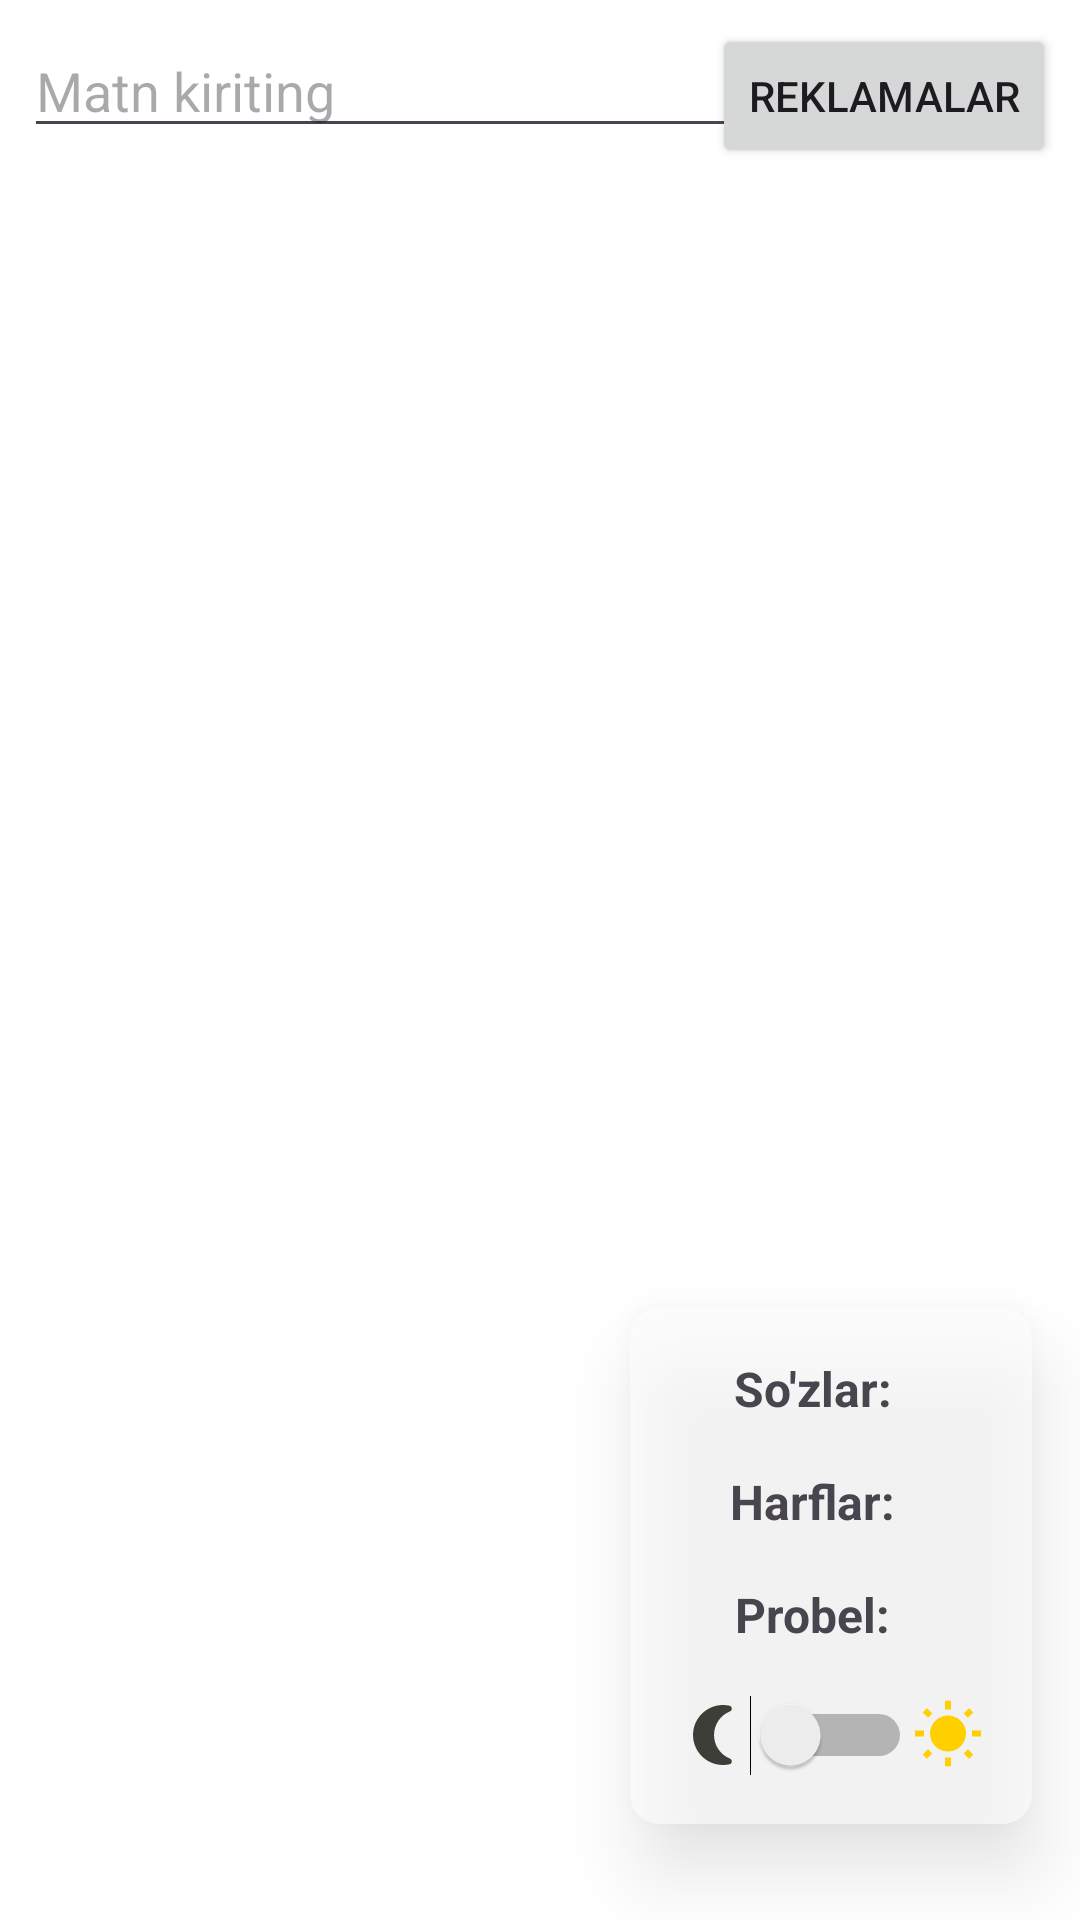

Where icons sit on this 1080x1920 app screen, as (x1, y1, x2, y2):
nightlight round: (693, 1705, 732, 1765)
sunny: (915, 1700, 981, 1767)
